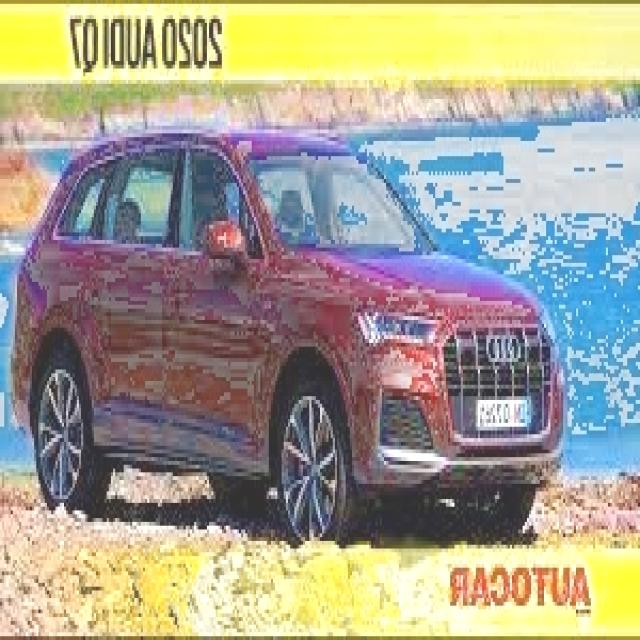maroon: (9, 130, 563, 514)
